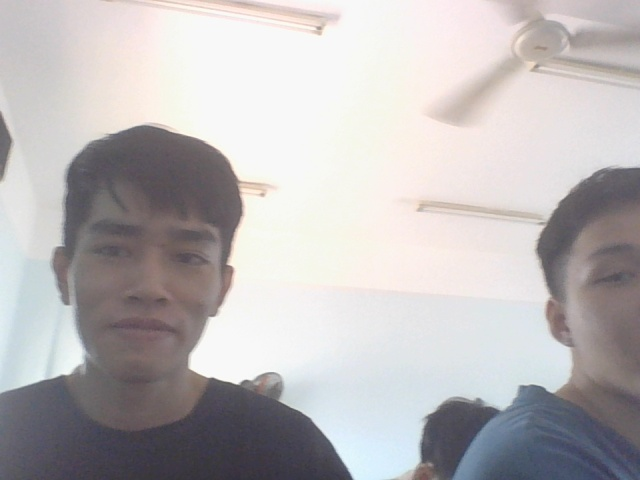real: (42, 110, 250, 405)
